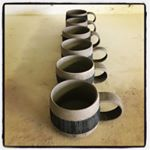cups: (46, 78, 126, 138), (53, 53, 110, 87)
